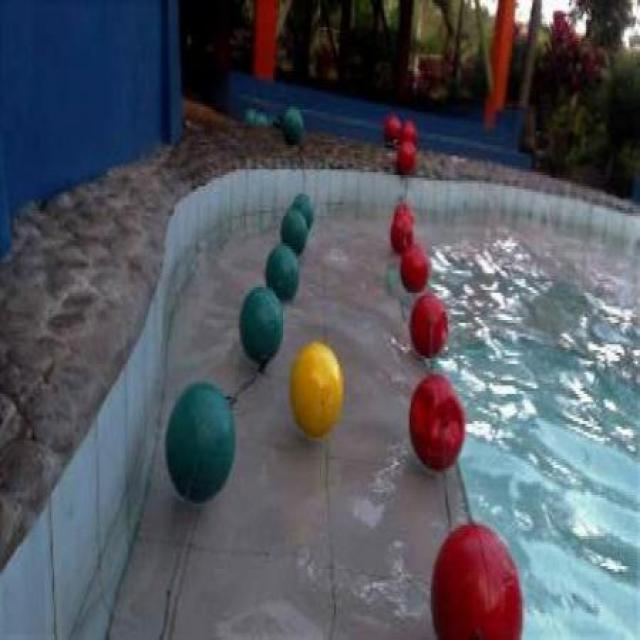buoy: (429, 522, 525, 637), (164, 380, 236, 500), (408, 372, 465, 470), (289, 343, 341, 439), (237, 283, 282, 363), (410, 291, 448, 360), (264, 240, 298, 302), (399, 239, 429, 291), (279, 207, 306, 252), (389, 215, 413, 250), (292, 190, 312, 231), (282, 107, 302, 145), (396, 138, 416, 173), (398, 118, 417, 145), (382, 115, 400, 142)
